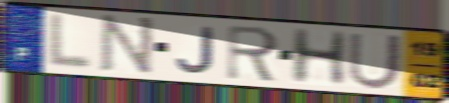H: (288, 27, 350, 86)
J: (174, 25, 217, 76)
L: (45, 12, 95, 73)
N: (97, 13, 157, 78)
R: (225, 23, 283, 84)
U: (346, 30, 406, 91)
